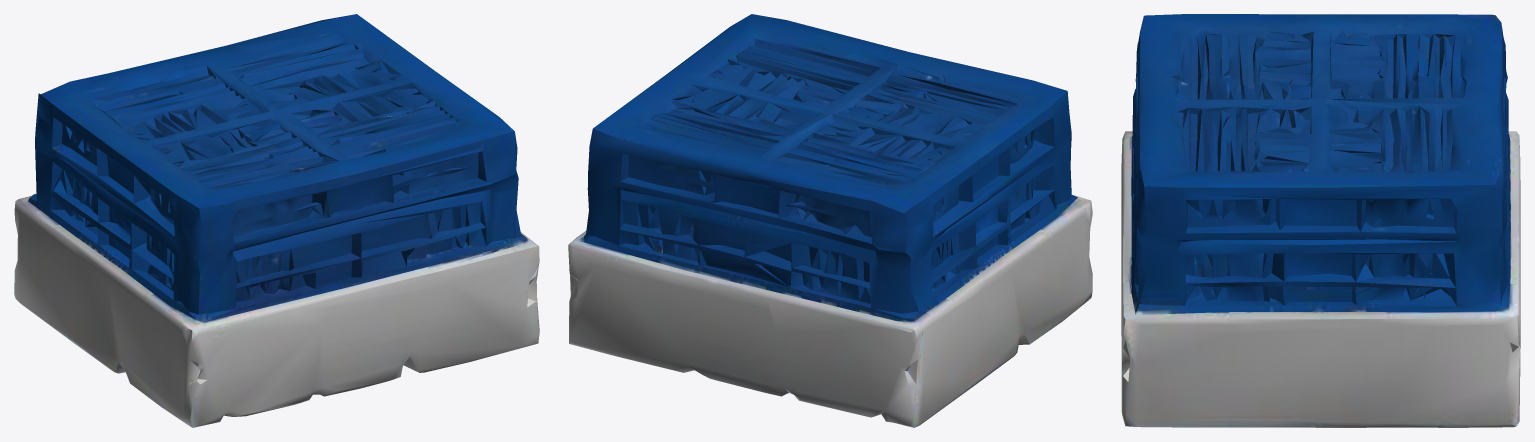
File: fishcrates.glb
The picture shows the model from 3 angles, left to right: view 1: azimuth 30°, elevation 25°; view 2: azimuth 150°, elevation 25°; view 3: azimuth 270°, elevation 25°; orthographic projection. The views are drawn at different scales.
Parts seen in each view (by area): view 1: fishcrates; view 2: fishcrates; view 3: fishcrates.
Boxes of the visible parts, x1=… form: fishcrates: x1=14, y1=14, x2=539, y2=427; fishcrates: x1=568, y1=14, x2=1092, y2=427; fishcrates: x1=1121, y1=14, x2=1520, y2=427.
Bounding box in the file's own units: 1.63 × 0.9504 × 1.46.
1 material, 1 textured.
